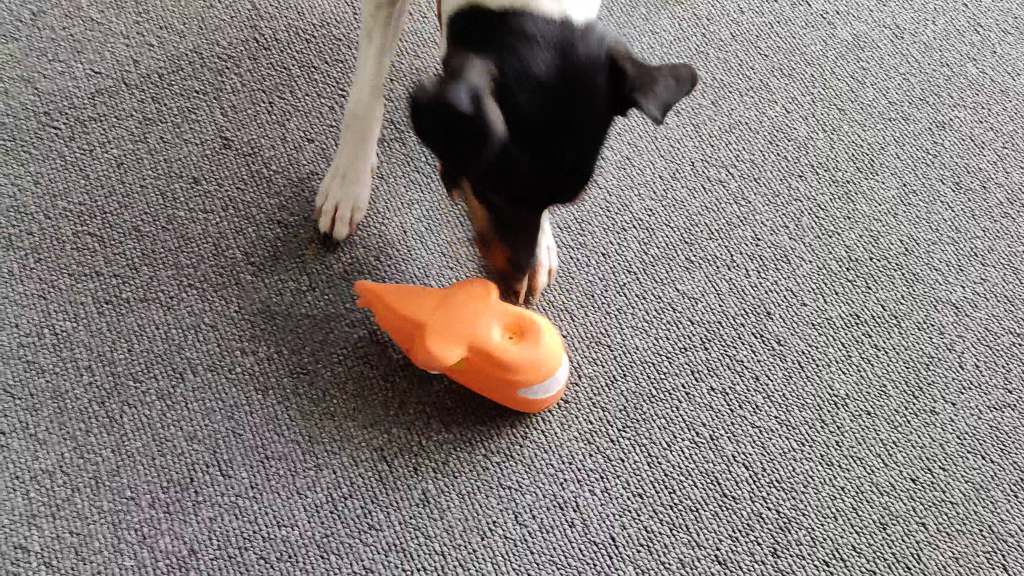Dog: (307, 0, 707, 338)
